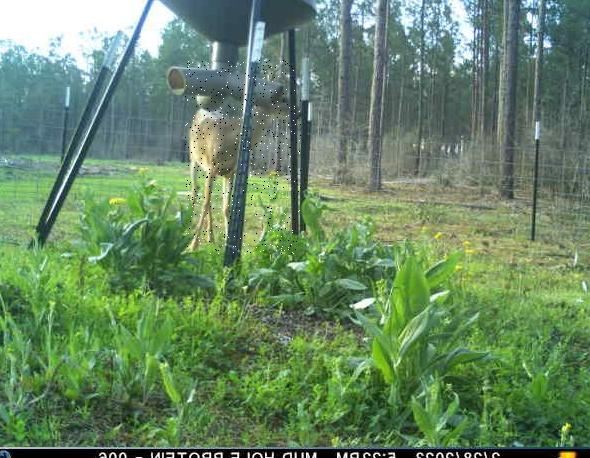Deer: (185, 60, 301, 254)
